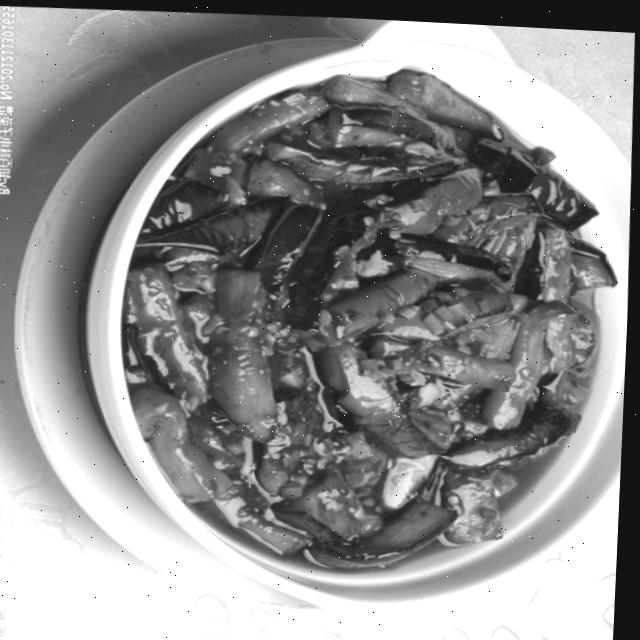鸡蛋料理: (62, 3, 640, 610)
